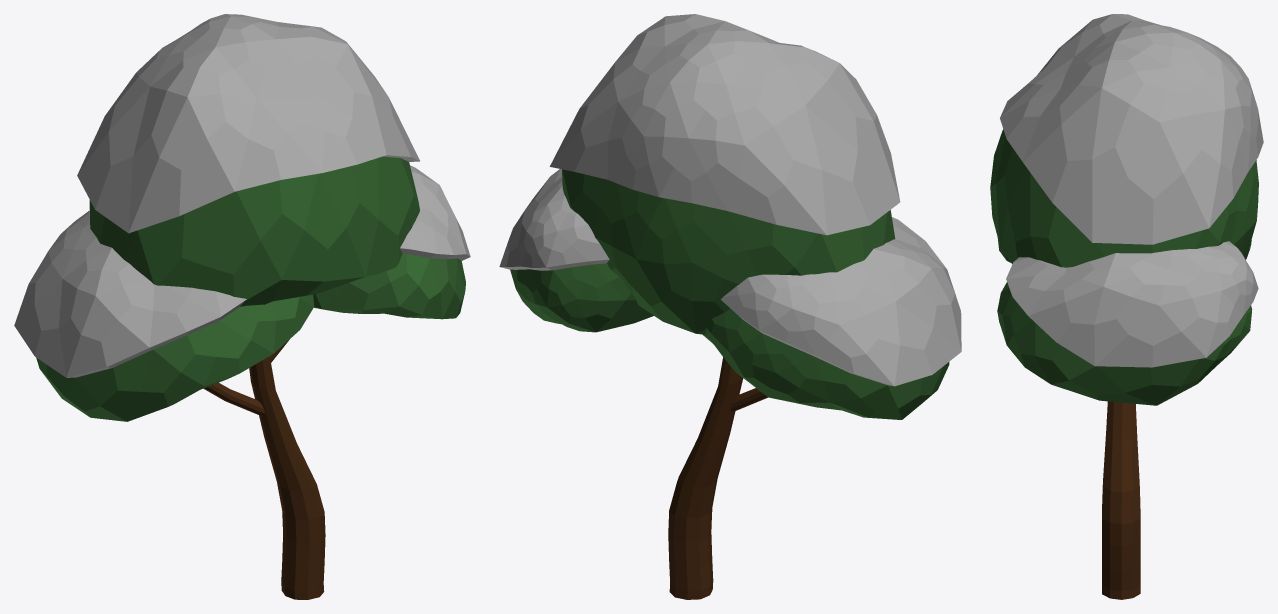
File: Tree2.obj
3 views of the same model, side by side, from view 1: azimuth 30°, elevation 25°; view 2: azimuth 150°, elevation 25°; view 3: azimuth 270°, elevation 25° (orthographic). The views are drawn at different scales.
Visible parts, largest first — view 1: Tree2_Cylinder.007; view 2: Tree2_Cylinder.007; view 3: Tree2_Cylinder.007.
Boxes of the visible parts, x1=… form: Tree2_Cylinder.007: x1=14, y1=14, x2=470, y2=599; Tree2_Cylinder.007: x1=499, y1=14, x2=961, y2=599; Tree2_Cylinder.007: x1=990, y1=14, x2=1263, y2=599.
Bounding box in the file's own units: 5.3 × 7.21 × 3.3.
